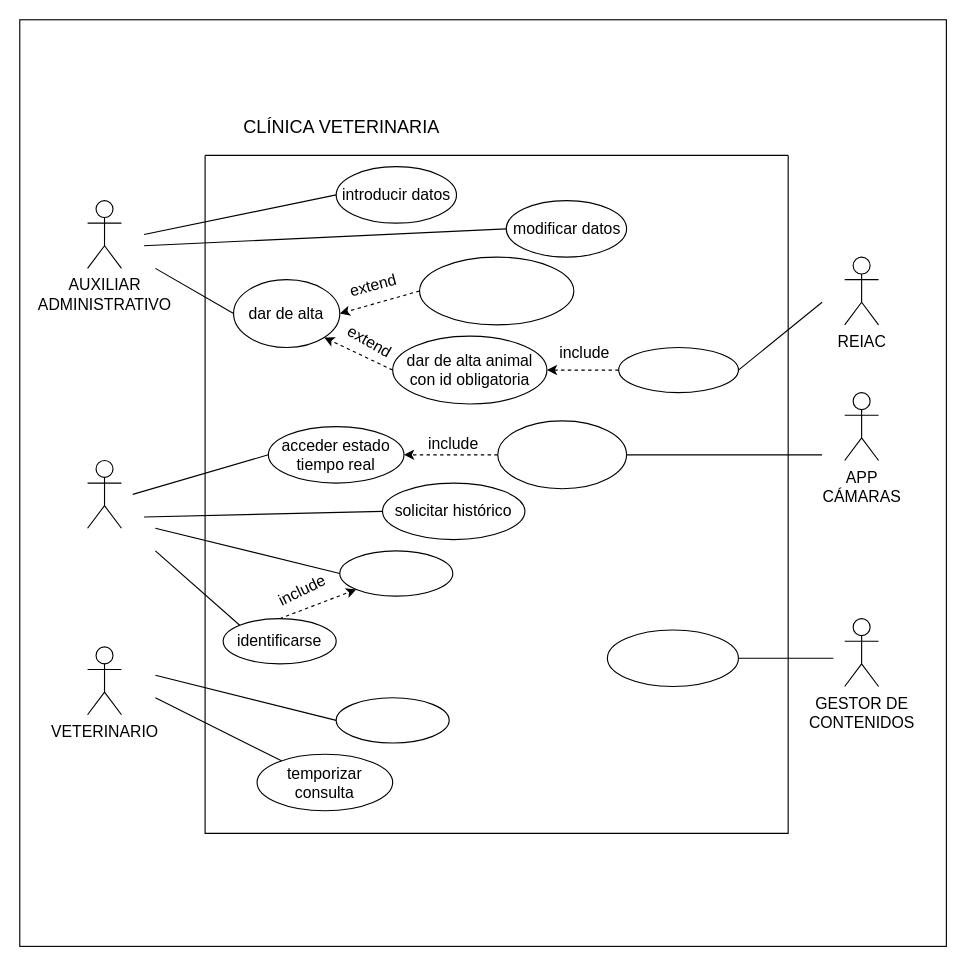
This 966x966 diagram has some shape labels left out. The shapes that lost their labels are listed below. From the top down, each one's box as (x1, y1, x2, y2) in pixels, then its label:
(418, 256, 574, 325): dar de alta animal
(618, 346, 738, 393): comprobar alta
(497, 420, 627, 489): gestión cámaras
(86, 459, 121, 528): CLIENTE
(339, 550, 453, 596): pagar
(606, 629, 738, 686): gestionar datos
(335, 697, 449, 743): realizar consulta
